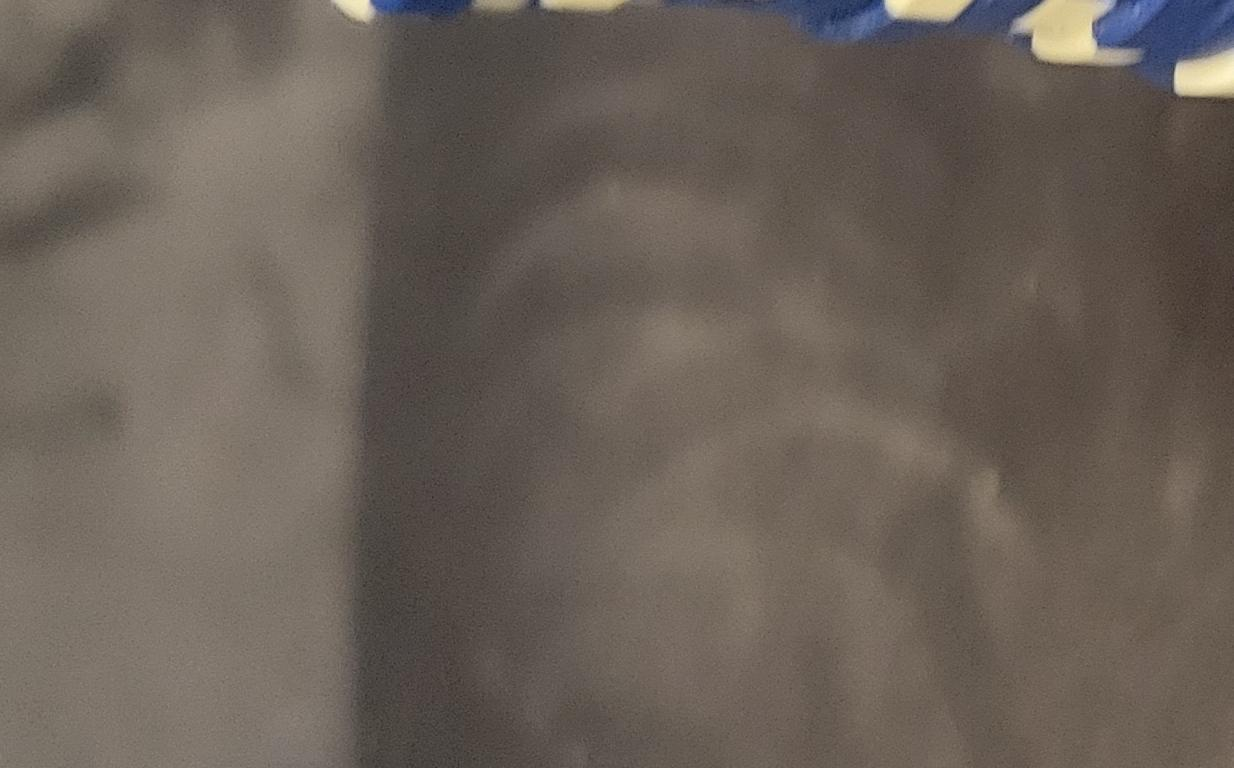Chip: (1, 493, 791, 768)
